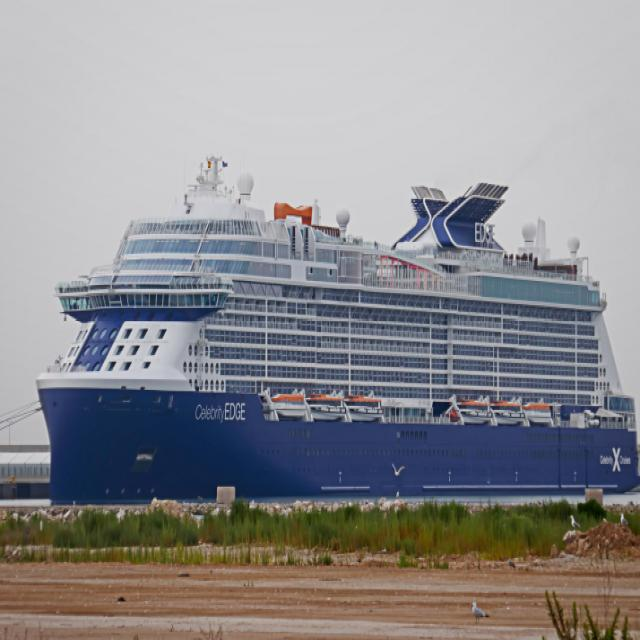cruises: (37, 147, 640, 500)
